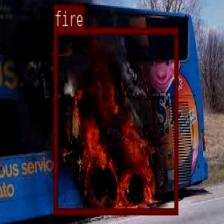fire: (53, 28, 177, 214)
